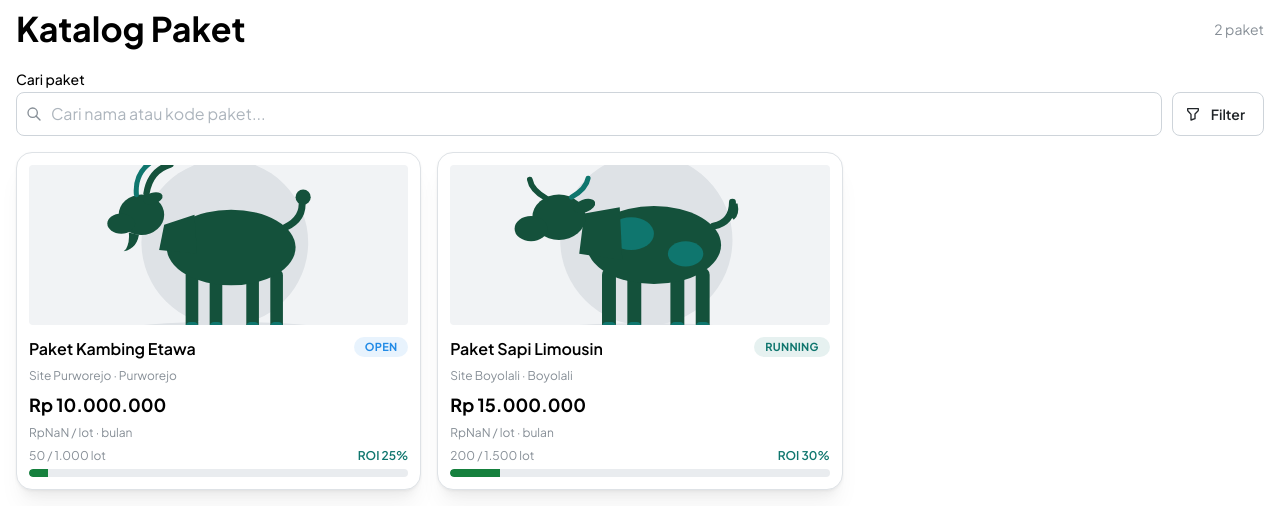
Test: Investor PWA Core › catalog fetches packages and filters them by search text
The width and height of the screenshot is (1280, 516).
Expected: the text "Paket Kambing Etawa" is shown, [29,337,196,362]
Expected: the text "Paket Sapi Limousin" is shown, [450,337,603,362]
Ketik teks pencarian → request disaring di server (query search)
Type "kambing" into the field labelled "Cari paket". click: (589,114)
box: [16,92,1162,136]
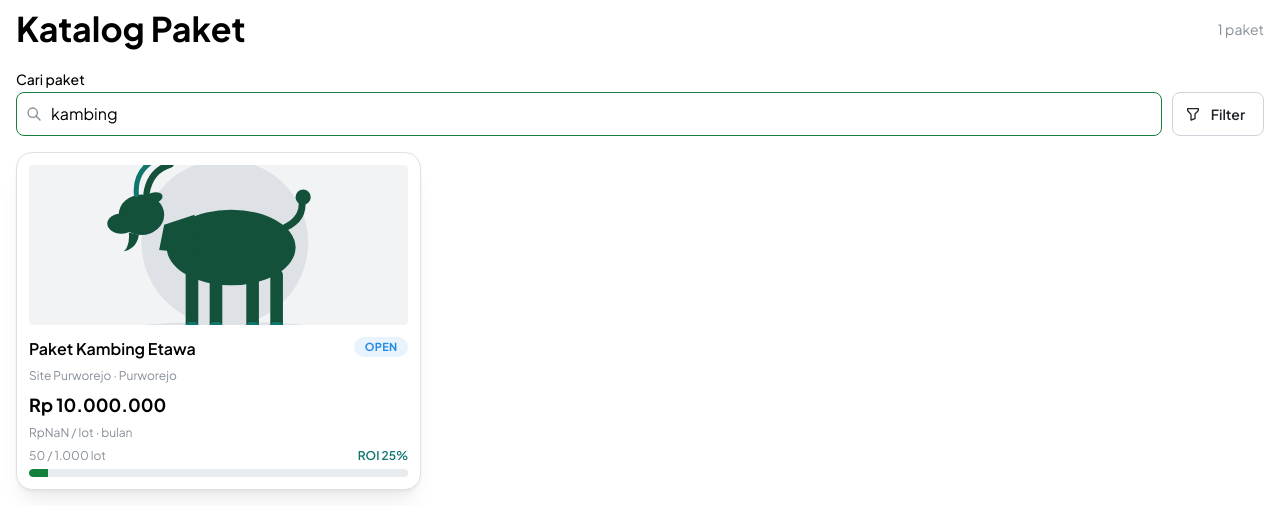
Expected: the text "Paket Kambing Etawa" is shown, [29,337,196,362]
Now the link "Paket Sapi Limousin" is gone
